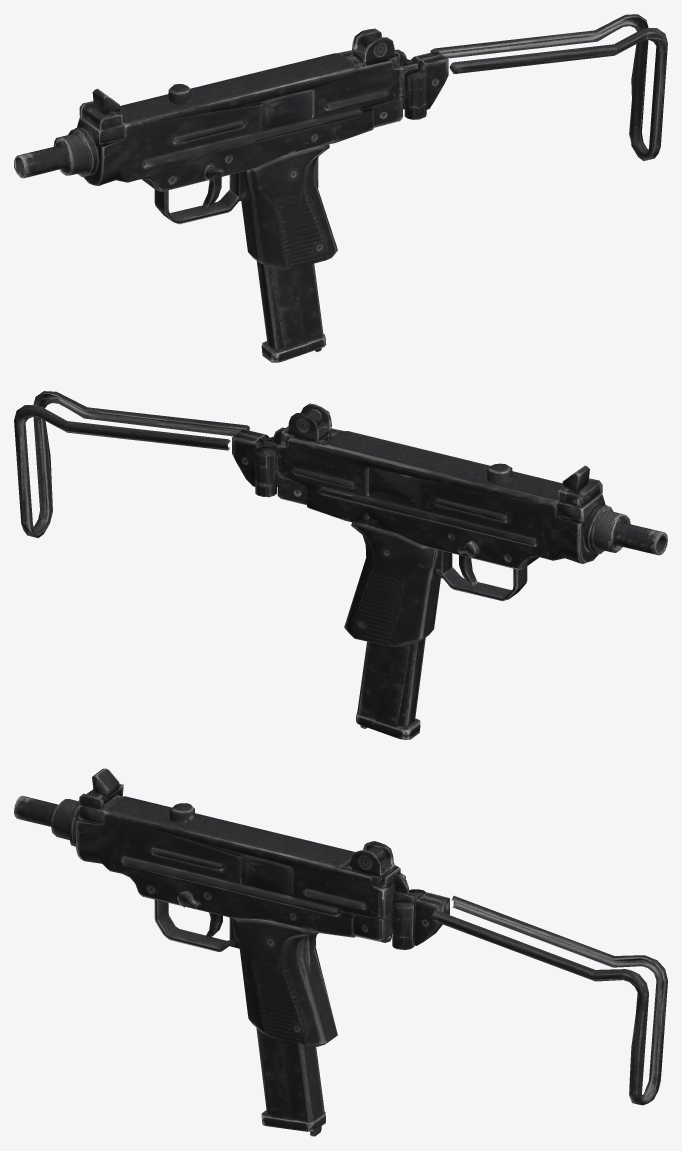
Rendered from Meshy_AI_model.fbx.
3 views of the same model, one above another, from view 1: azimuth 30°, elevation 25°; view 2: azimuth 150°, elevation 25°; view 3: azimuth 330°, elevation 25° (orthographic).
Visible parts, largest first — view 1: Mesh_0; view 2: Mesh_0; view 3: Mesh_0.
Boxes of the visible parts, <box> form: Mesh_0: <box>14,14,667,362</box>; Mesh_0: <box>14,391,667,739</box>; Mesh_0: <box>14,768,667,1136</box>.
Bounding box in the file's own units: 95.75 × 44.53 × 7.86.
1 material, 1 textured.
